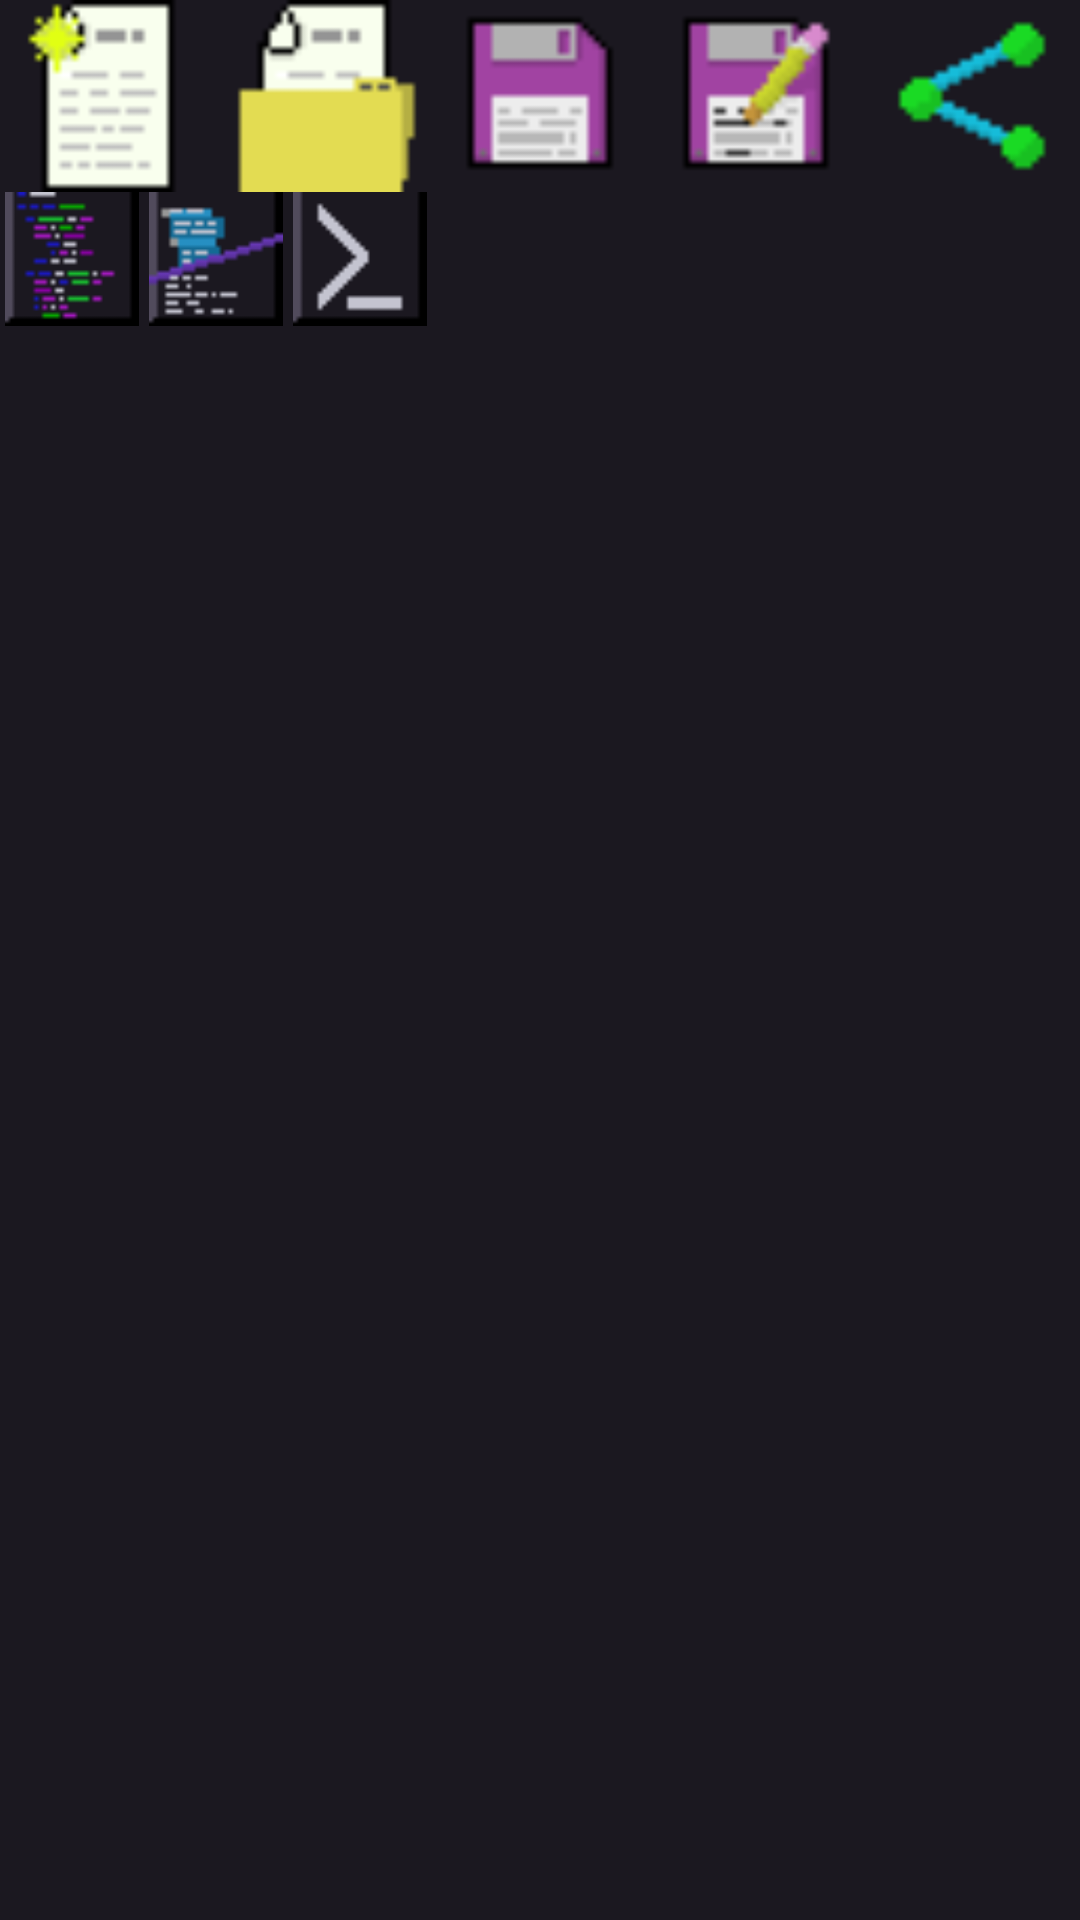

Icon click points for this 1080px×1920px phone screenshot, format (x,y):
editor: (60,256)
execute: (360,259)
fileshare: (972,96)
newfile: (100,96)
openfile: (327,96)
savefile: (540,93)
savefileas: (758,93)
